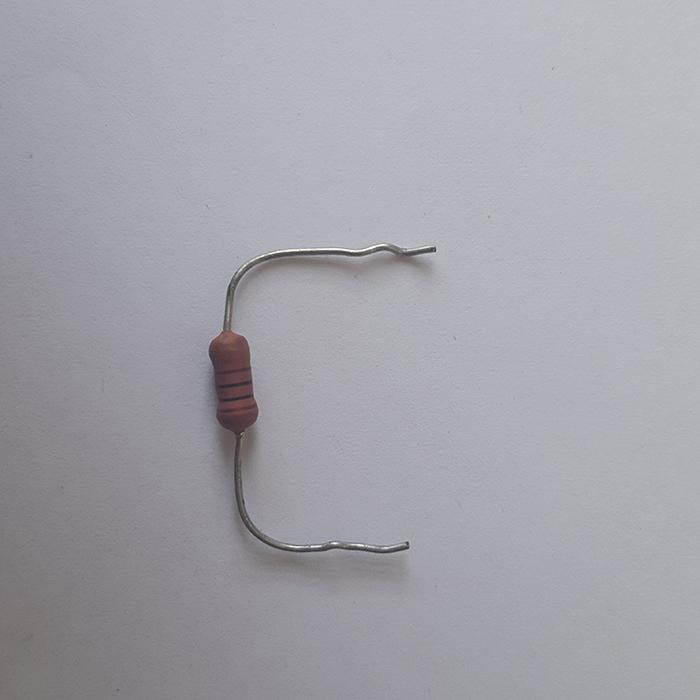resistor: (208, 328, 258, 433)
